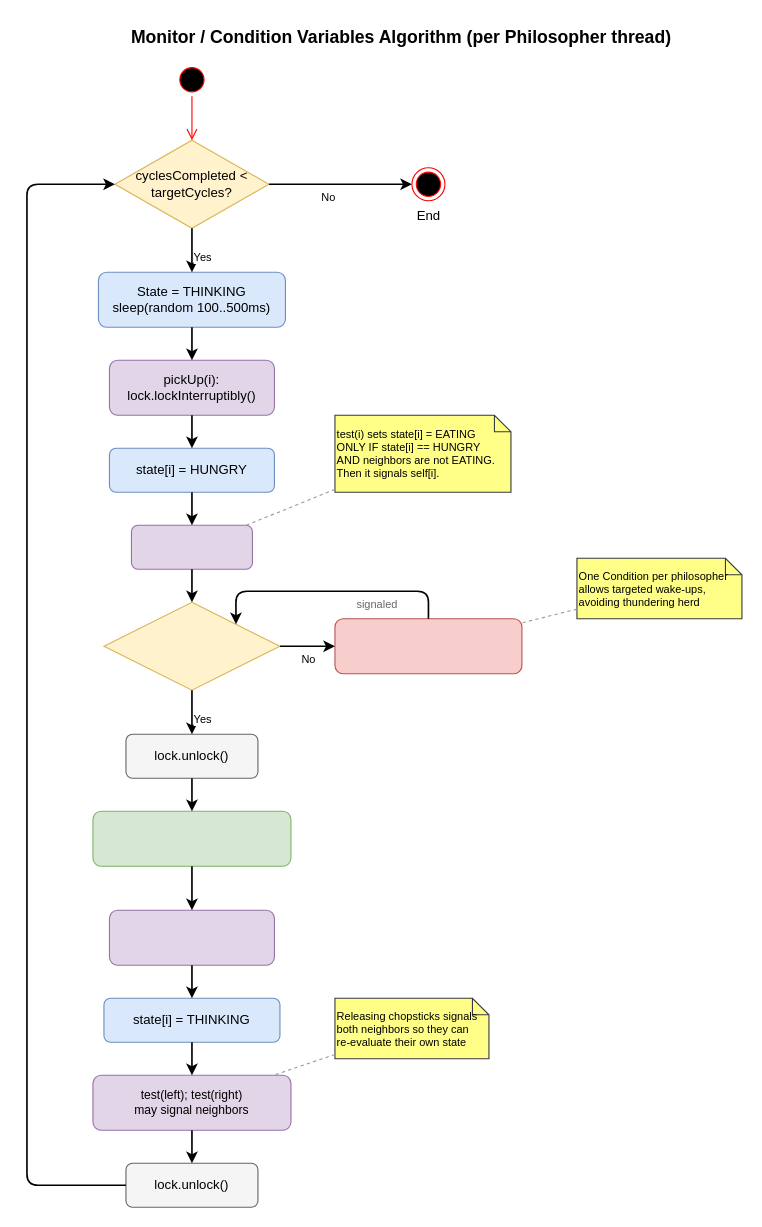
Image size: 762x1227. Some labels were removed from this diagram. Here are the shapes that lost their labels. From the top down, the centre of each, then its label:
At (191,79): "Start".
At (191,546): "test(i)".
At (191,645): "state[i] == EATING?".
At (428,646): "self[i].await() (release lock, block)".
At (191,838): "State = EATING sleep(random 100..500ms)".
At (191,937): "putDown(i): lock.lock()".
